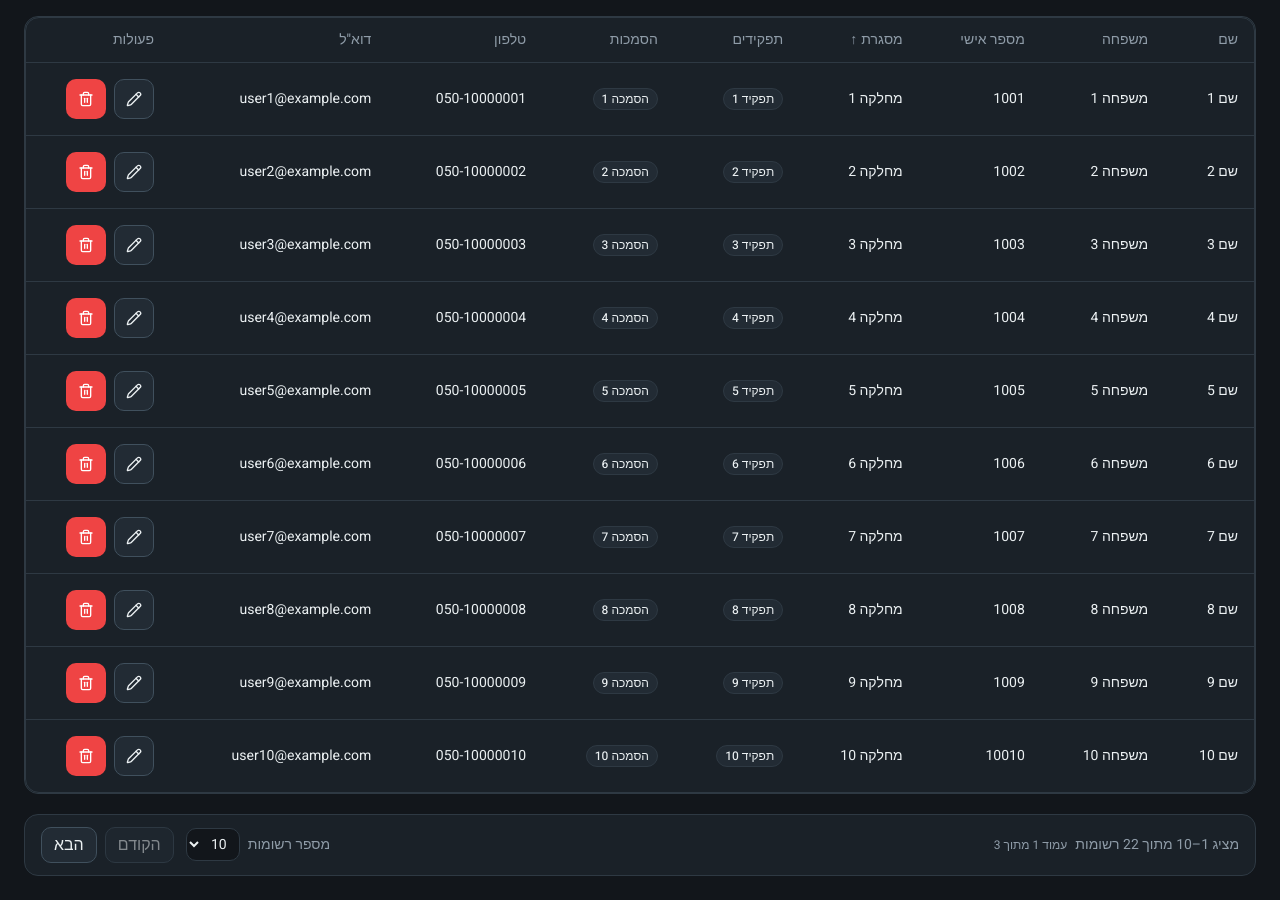
Test: UsersPage › moves to the next page and keeps the current page in bounds
(page scrolled)
Click the button "הבא".
click(69, 844)  # box [41,826,97,862]
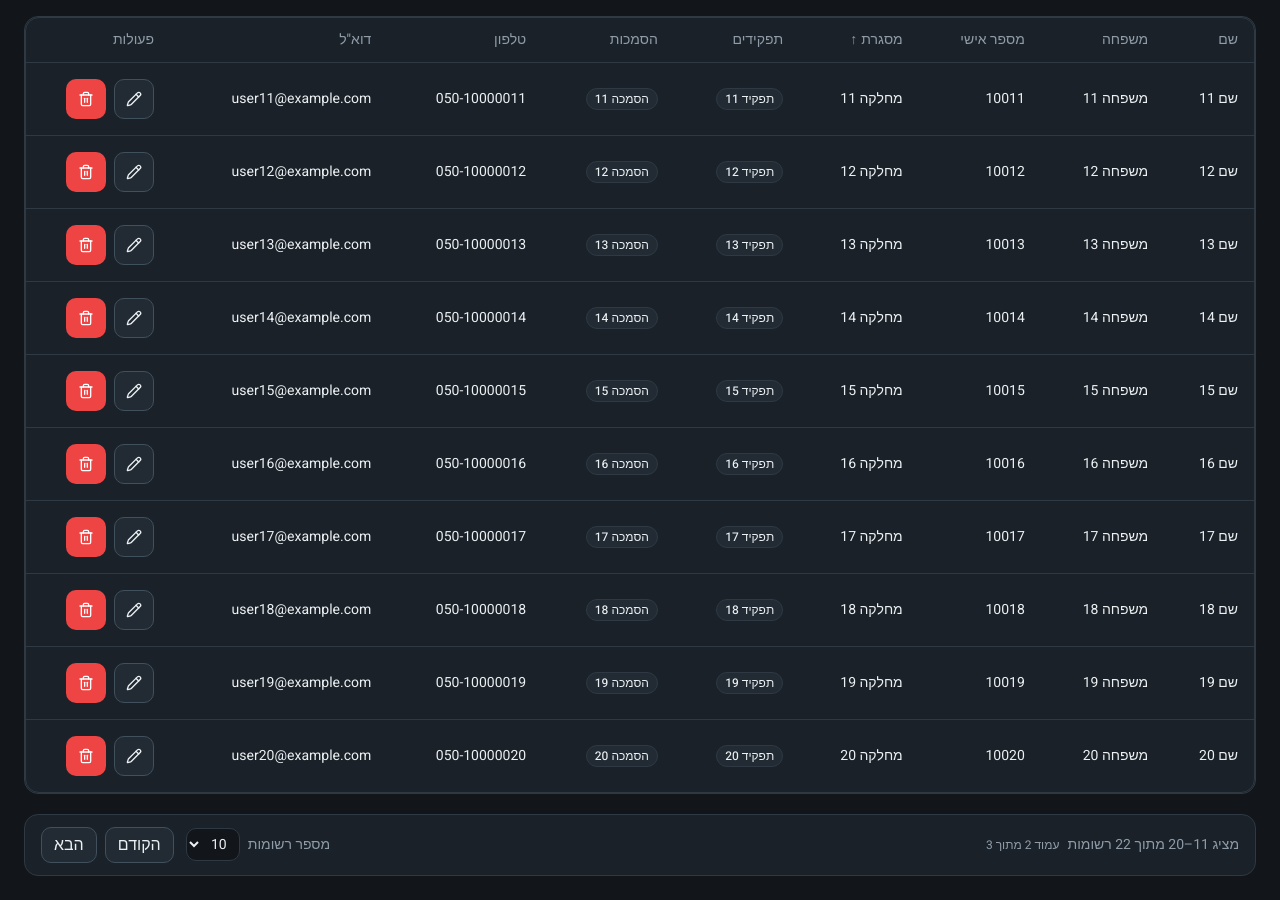
Check: the text "שם 11" is shown, box [1164,62,1254,135]
